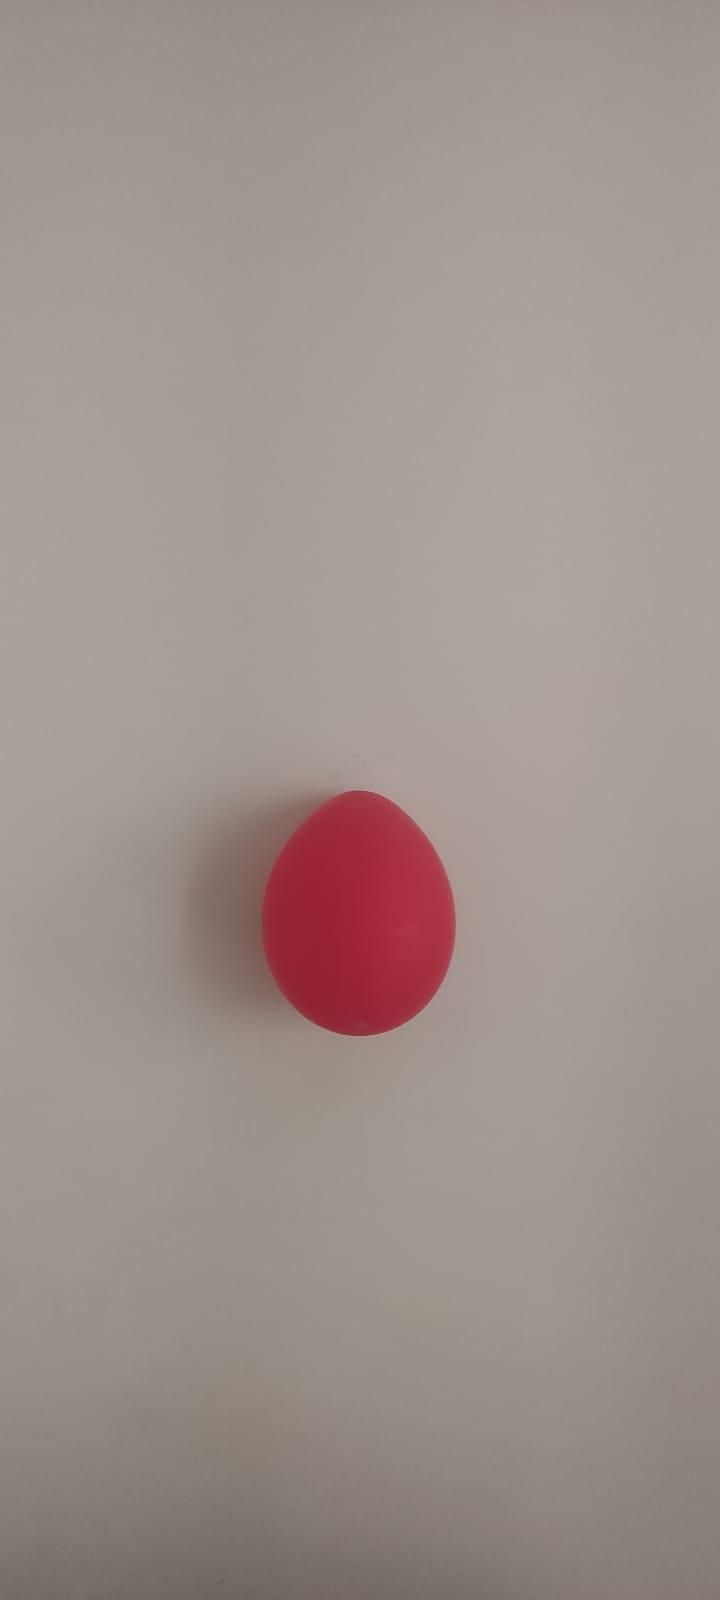red: (261, 781, 459, 1045)
